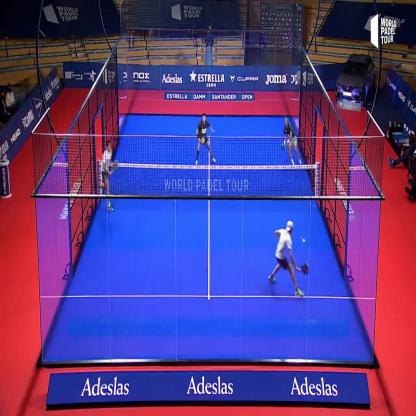ball: (302, 236, 310, 248)
